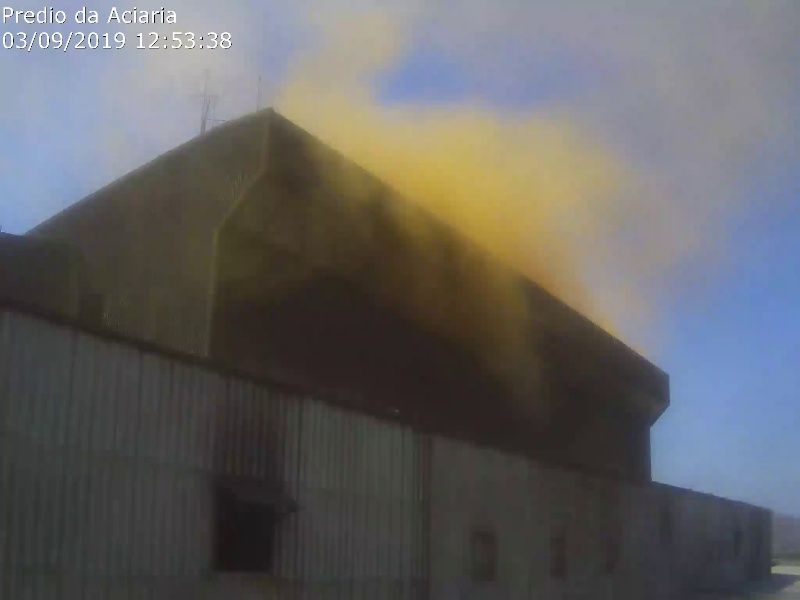Pessimo: (547, 142, 630, 298), (315, 82, 372, 142), (395, 132, 452, 192), (436, 165, 493, 225), (503, 149, 560, 209), (487, 196, 544, 256), (412, 203, 469, 263), (344, 126, 401, 186), (290, 72, 347, 132), (449, 250, 506, 310)
